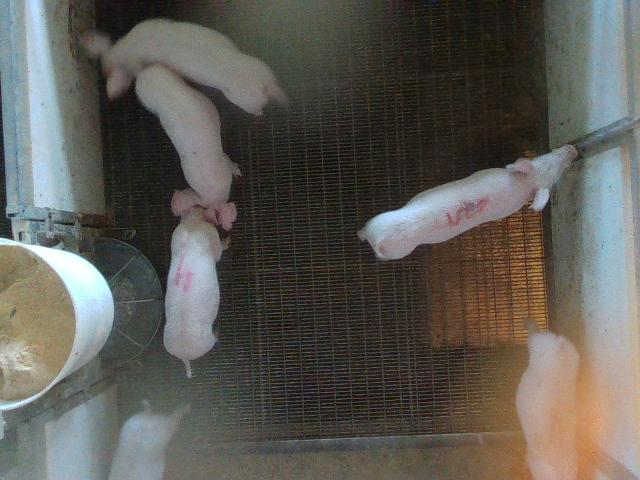pig-1: (516, 332, 579, 479)
pig-3: (359, 145, 576, 259)
pig-4: (164, 188, 236, 376)
